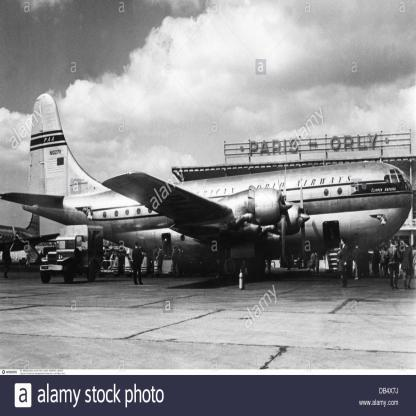CIV_Plane: (7, 82, 413, 307)
